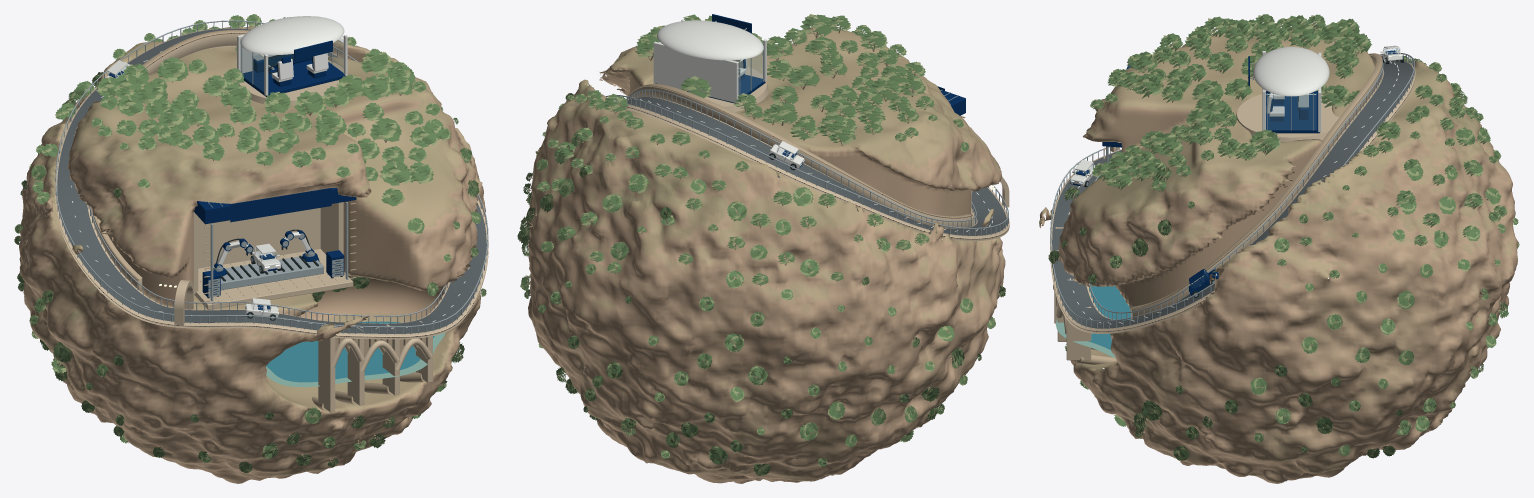
Rendered from hyundai-refined-v2.glb.
3 renders of one model, left to right at view 1: azimuth 30°, elevation 25°; view 2: azimuth 150°, elevation 25°; view 3: azimuth 270°, elevation 25°, orthographic. The views are drawn at different scales.
Parts seen in each view (by area): view 1: motor_layered_terrain, motor_coastal_leaf, motor_cut_stone, motor_asphalt, motor_coastal_leaf_light, motor_brushed_steel, motor_navy_002C5F, motor_white_enamel, motor_warm_limestone, motor_bay_water, motor_glass, motor_shallow_water (+1 smaller); view 2: motor_layered_terrain, motor_coastal_leaf, motor_coastal_leaf_light, motor_white_enamel, motor_cut_stone, motor_asphalt, motor_brushed_steel, motor_warm_limestone, motor_navy_002C5F, motor_glass; view 3: motor_layered_terrain, motor_coastal_leaf, motor_coastal_leaf_light, motor_asphalt, motor_cut_stone, motor_white_enamel, motor_brushed_steel, motor_warm_limestone, motor_navy_002C5F, motor_glass, motor_bay_water.
Boxes of the visible parts, x1,y1,x2,y2 form: motor_layered_terrain: (19,26,485,483); motor_coastal_leaf: (14,14,486,472); motor_cut_stone: (55,28,488,412); motor_asphalt: (57,28,486,333); motor_coastal_leaf_light: (15,16,486,471); motor_brushed_steel: (55,20,488,334); motor_navy_002C5F: (194,40,356,297); motor_white_enamel: (71,16,469,328); motor_warm_limestone: (19,26,481,461); motor_bay_water: (266,321,434,382); motor_glass: (240,36,343,260); motor_shallow_water: (266,332,445,387); motor_layered_terrain: (526,26,1005,483); motor_coastal_leaf: (517,14,1005,475); motor_coastal_leaf_light: (519,14,1004,474); motor_white_enamel: (626,19,992,231); motor_cut_stone: (617,66,1009,241); motor_asphalt: (617,97,1006,235); motor_brushed_steel: (606,20,1008,236); motor_warm_limestone: (526,24,1000,469); motor_navy_002C5F: (655,14,965,115); motor_glass: (657,41,762,94); motor_layered_terrain: (1039,24,1517,483); motor_coastal_leaf: (1048,14,1519,460); motor_coastal_leaf_light: (1048,15,1518,460); motor_asphalt: (1052,60,1413,328); motor_cut_stone: (1050,55,1415,360); motor_white_enamel: (1068,47,1399,324); motor_brushed_steel: (1050,52,1415,328); motor_warm_limestone: (1066,22,1513,449); motor_navy_002C5F: (1102,56,1319,147); motor_glass: (1266,93,1316,129); motor_bay_water: (1088,284,1130,349).
Bounding box in the file's own units: 18.63 × 17.76 × 18.5.
